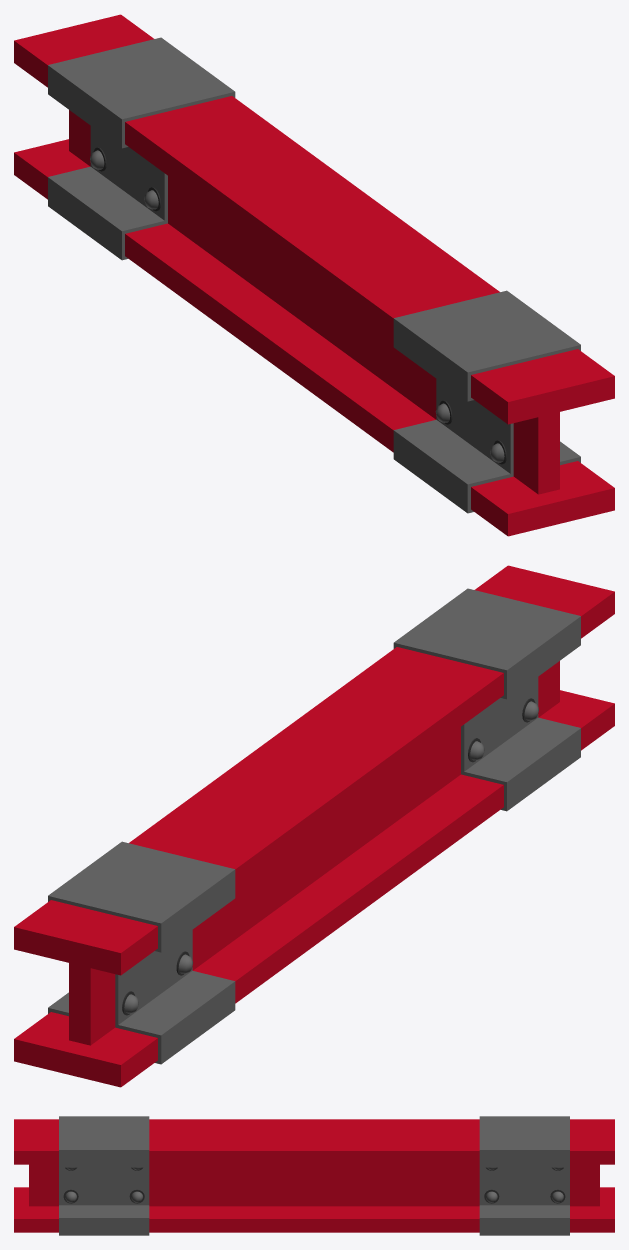
The model's file is SteelFrame.fbx.
3 renders of one model, top to bottom at view 1: azimuth 30°, elevation 25°; view 2: azimuth 150°, elevation 25°; view 3: azimuth 270°, elevation 25°, orthographic. The views are drawn at different scales.
Parts seen in each view (by area): view 1: mqo_mesh; view 2: mqo_mesh; view 3: mqo_mesh.
Part boxes in pixels (left/top/right/bottom): mqo_mesh: left=14, top=14, right=614, bottom=536; mqo_mesh: left=14, top=565, right=614, bottom=1087; mqo_mesh: left=14, top=1116, right=614, bottom=1235.
Bounding box in the file's own units: 26.5 × 31.5 × 200.
